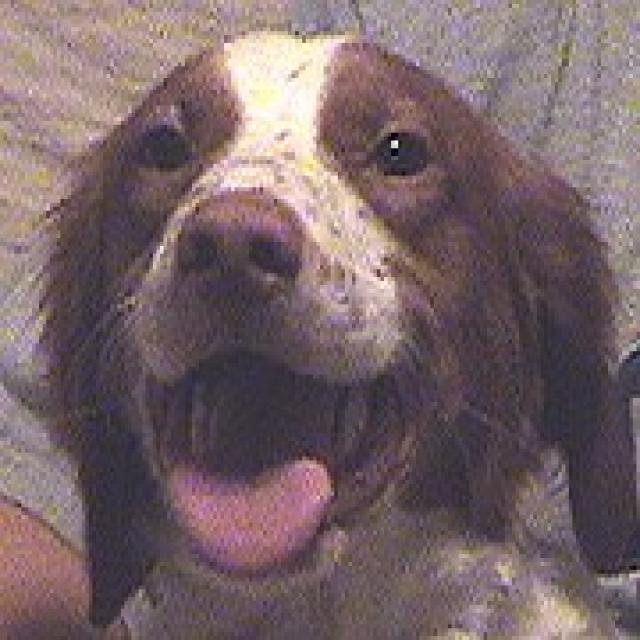Dogs: (0, 19, 636, 636)
